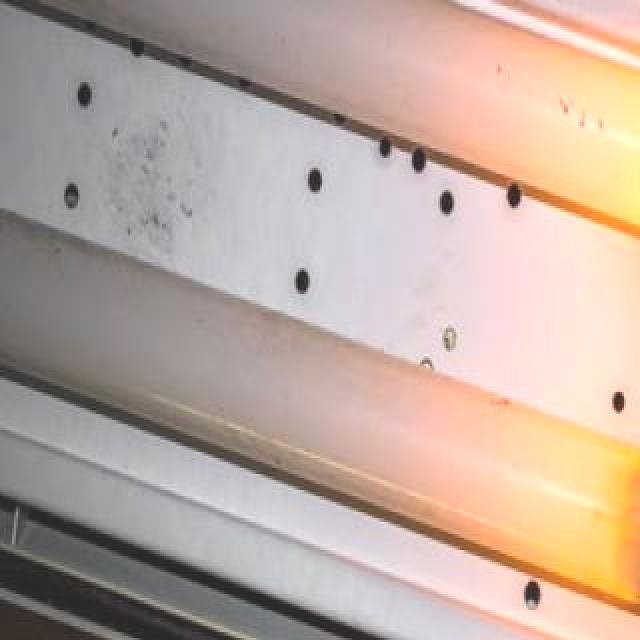fluorescent tube: (0, 168, 640, 640), (0, 0, 640, 346)
